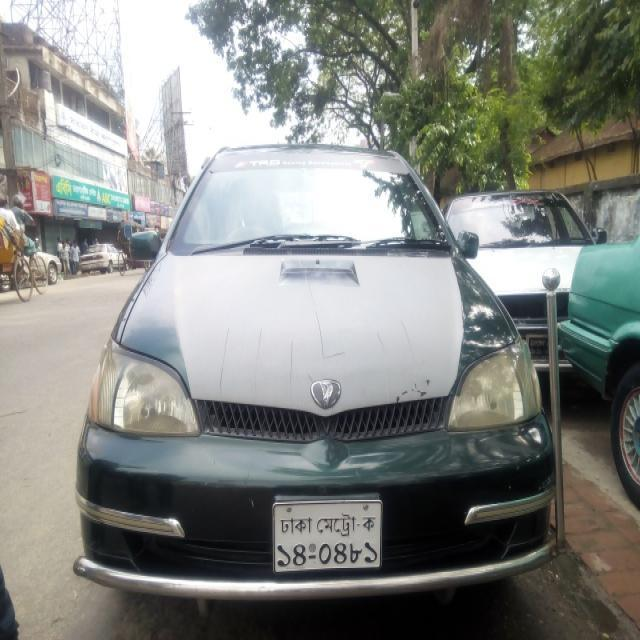numberplate: (270, 497, 382, 574)
